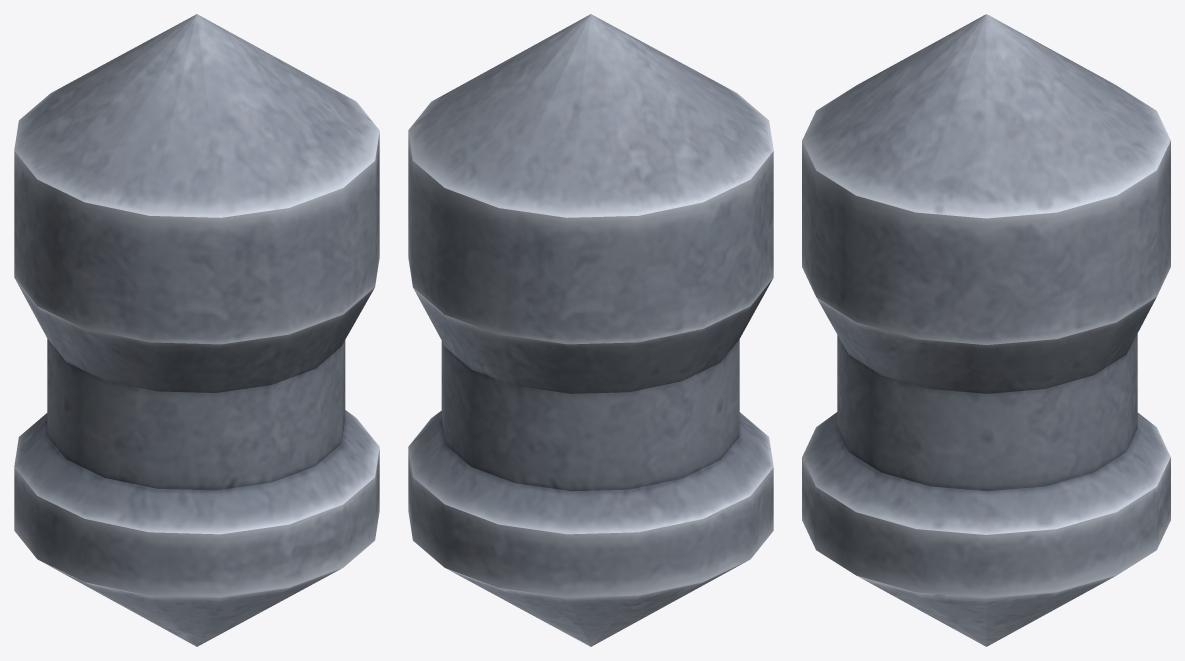
Rendered from WackerHub_B.fbx.
3 views of the same model, side by side, from view 1: azimuth 30°, elevation 25°; view 2: azimuth 150°, elevation 25°; view 3: azimuth 270°, elevation 25° (orthographic).
Visible parts, largest first — view 1: Wacker02Hub; view 2: Wacker02Hub; view 3: Wacker02Hub.
Boxes of the visible parts, x1,y1,x2,y2 form: Wacker02Hub: [14, 14, 379, 646]; Wacker02Hub: [408, 14, 773, 646]; Wacker02Hub: [802, 14, 1170, 646].
Size of the model in its own units: 132 by 250 by 132.
